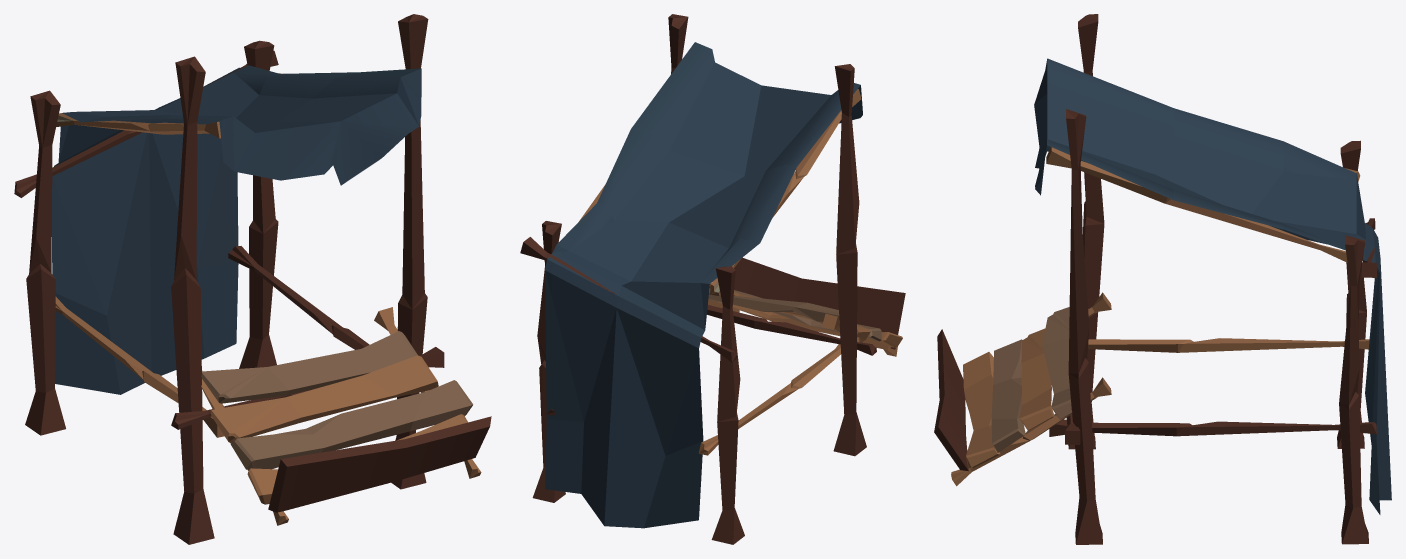
The model's file is SM_L_Stand_Courtain.fbx.
3 renders of one model, left to right at view 1: azimuth 30°, elevation 25°; view 2: azimuth 150°, elevation 25°; view 3: azimuth 270°, elevation 25°, orthographic. The views are drawn at different scales.
Visible parts, largest first — view 1: SM_L_Stand_courtain; view 2: SM_L_Stand_courtain; view 3: SM_L_Stand_courtain.
Boxes of the visible parts, x1,y1,x2,y2 form: SM_L_Stand_courtain: [14, 14, 491, 544]; SM_L_Stand_courtain: [520, 14, 905, 544]; SM_L_Stand_courtain: [934, 14, 1391, 544].
Bounding box in the file's own units: 181 × 306 × 297.
